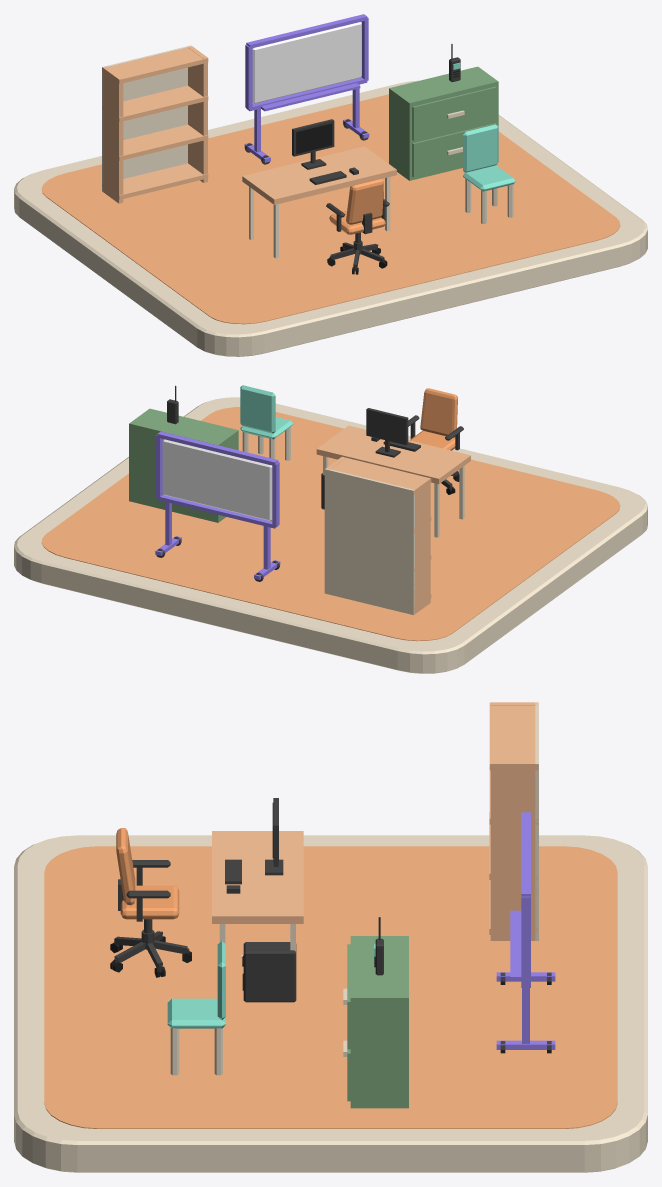
Rendered from room.fbx.
The picture shows the model from 3 angles, top to bottom: view 1: azimuth 30°, elevation 25°; view 2: azimuth 150°, elevation 25°; view 3: azimuth 270°, elevation 25°; orthographic projection. The views are drawn at different scales.
Parts seen in each view (by area): view 1: COM-02 Floor Surface, COM-01 Rounded Base Direct, Cabinet, Writing surface, Top, Back, COM-04_Chair_blender_direct, Side, Side.001, Shelf.003, Shelf, Shelf.002 (+8 smaller); view 2: COM-02 Floor Surface, COM-01 Rounded Base Direct, Back, Writing surface, Cabinet, Top, COM-04_Chair_blender_direct, Side, Backrest, Frame, Shelf.003, Frame rail.001 (+4 smaller); view 3: COM-02 Floor Surface, COM-01 Rounded Base Direct, Cabinet, Top, Side.001, COM-04_Chair_blender_direct, Tower, Shelf.003, Seat, Back, Frame upright.001, Frame rail.001 (+3 smaller).
Boxes of the visible parts, x1,y1,x2,y2 form: COM-02 Floor Surface: (41, 94, 620, 324); COM-01 Rounded Base Direct: (14, 80, 647, 356); Cabinet: (389, 66, 498, 180); Writing surface: (252, 22, 361, 103); Top: (242, 146, 396, 258); Back: (102, 45, 191, 191); COM-04_Chair_blender_direct: (326, 178, 389, 274); Side: (103, 66, 123, 203); Side.001: (188, 46, 207, 182); Shelf.003: (102, 47, 208, 83); Shelf: (102, 163, 208, 199); Shelf.002: (102, 85, 208, 122); COM-02 Floor Surface: (41, 407, 620, 641); COM-01 Rounded Base Direct: (14, 397, 647, 673); Back: (324, 468, 414, 615); Writing surface: (162, 439, 272, 520); Cabinet: (129, 408, 238, 522); Top: (316, 425, 470, 537); COM-04_Chair_blender_direct: (408, 388, 463, 494); Side: (410, 477, 430, 614); Backrest: (240, 385, 275, 433); Frame: (366, 408, 408, 457); Shelf.003: (331, 456, 431, 494); Frame rail.001: (157, 431, 278, 465); COM-02 Floor Surface: (44, 846, 617, 1128); COM-01 Rounded Base Direct: (14, 835, 647, 1172); Cabinet: (343, 936, 408, 1108); Top: (212, 831, 303, 951); Side.001: (490, 761, 536, 940); COM-04_Chair_blender_direct: (110, 828, 191, 977); Tower: (243, 942, 296, 1002); Shelf.003: (489, 702, 538, 770); Seat: (167, 998, 225, 1028); Back: (535, 702, 538, 940); Frame upright.001: (521, 896, 530, 986); Frame rail.001: (521, 812, 530, 896).
Size of the model in its own units: 600 by 190 by 520.
